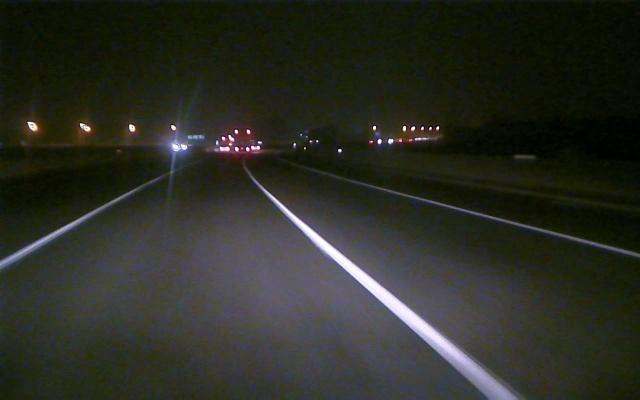lane: (255, 181, 522, 395), (363, 183, 640, 259), (2, 188, 139, 269)
